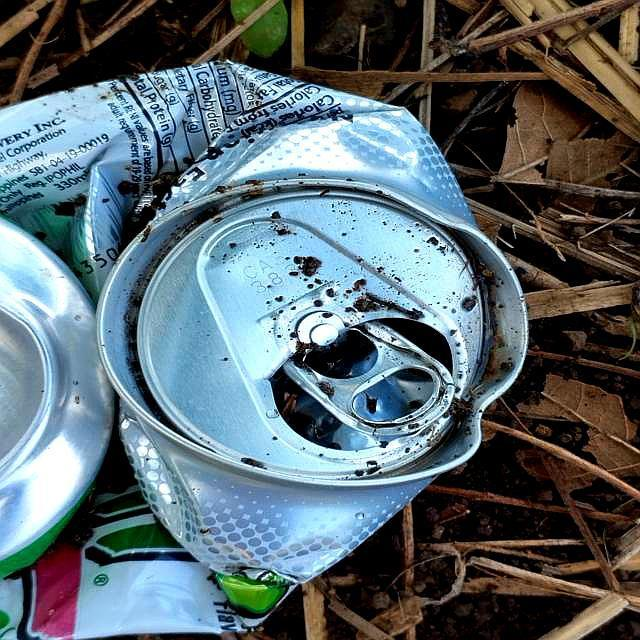Non-biodegradable: (1, 57, 527, 640)
